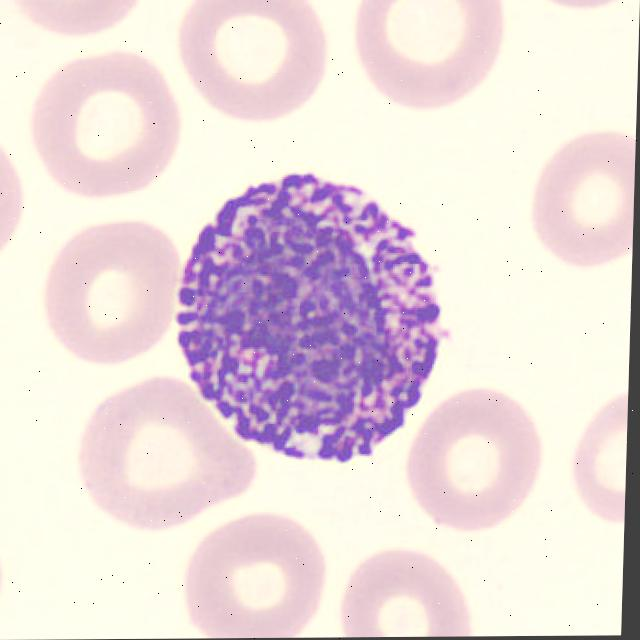basophil: (171, 189, 452, 450)
rbc: (46, 385, 248, 531), (21, 47, 177, 209), (37, 223, 185, 365), (180, 506, 327, 638), (350, 0, 513, 109), (514, 131, 636, 269), (181, 0, 338, 107), (415, 404, 543, 525), (332, 547, 486, 637), (562, 387, 628, 518), (6, 0, 143, 37), (0, 115, 22, 285), (524, 0, 640, 7), (0, 504, 3, 636), (430, 404, 433, 410)
